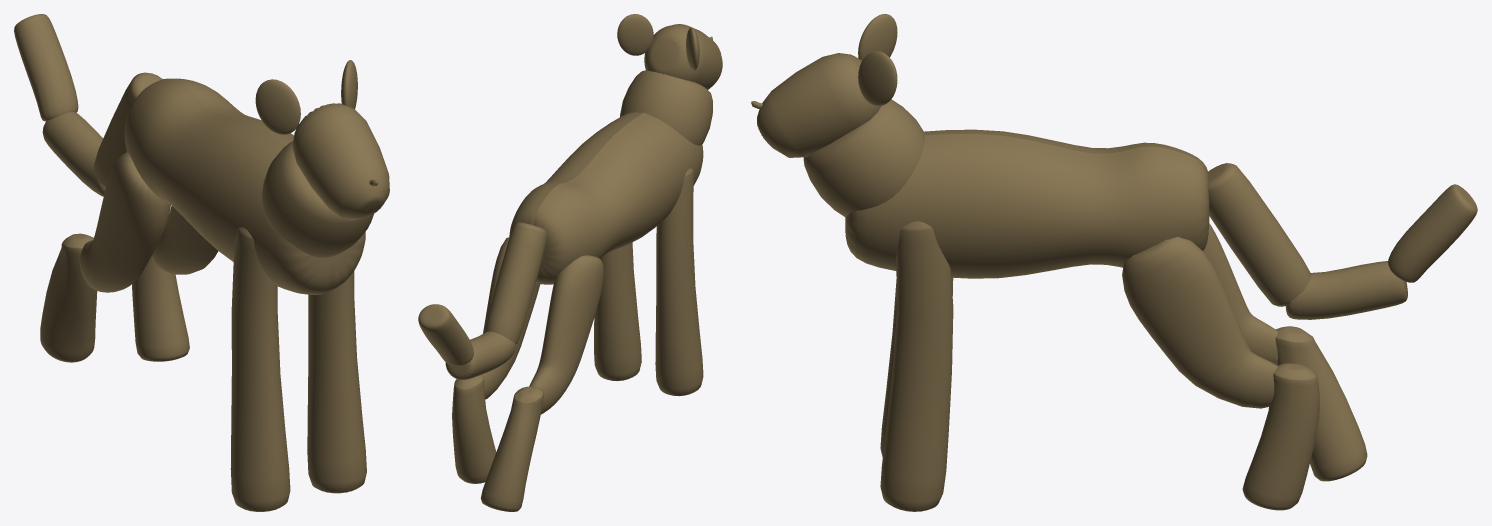
Rendered from cheetah_run.fbx.
3 renders of one model, left to right at view 1: azimuth 30°, elevation 25°; view 2: azimuth 150°, elevation 25°; view 3: azimuth 270°, elevation 25°, orthographic. The views are drawn at different scales.
Visible parts, largest first — view 1: Cheetah; view 2: Cheetah; view 3: Cheetah.
Part boxes in pixels (box(x1,y1,x2,y2)): Cheetah: box(14, 14, 389, 511); Cheetah: box(418, 14, 722, 511); Cheetah: box(751, 14, 1477, 511).
Size of the model in its own units: 3.29 by 10.94 by 15.85.
